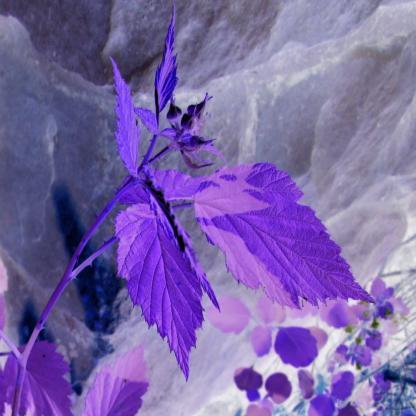Raspberry leaf: (194, 162, 378, 312), (113, 199, 208, 384)
